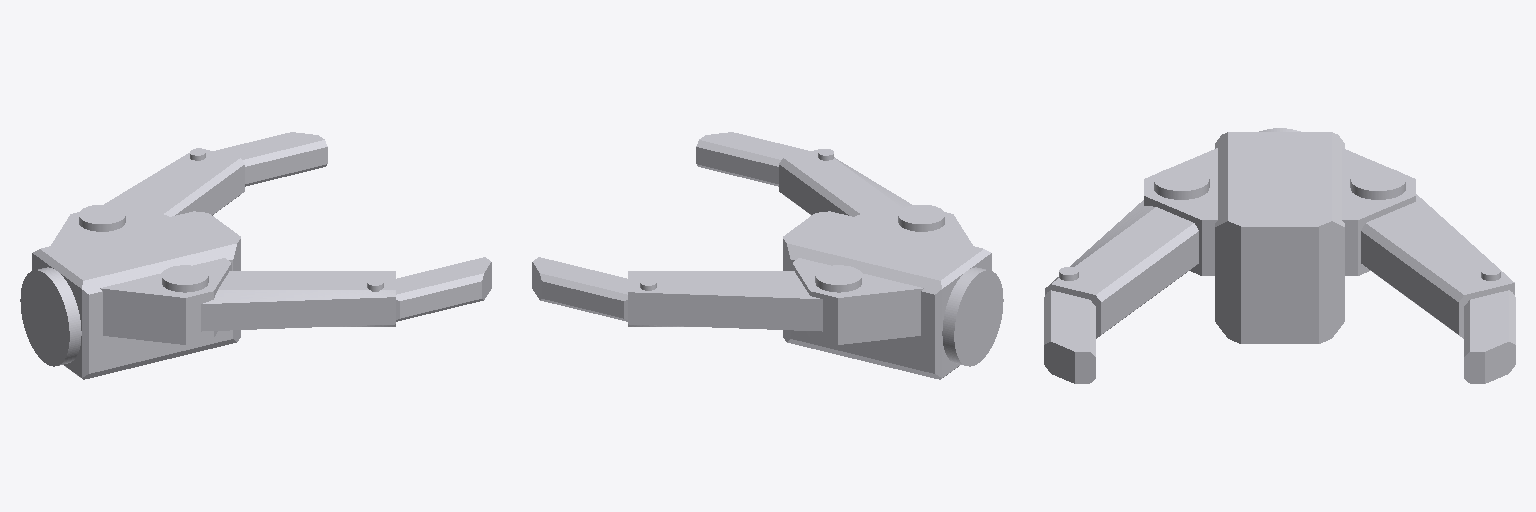
The robot description file, URDF, robot "QARM":
<?xml version="1.0" encoding="utf-8"?>
<!--
    ###################################################################################################################
    Note that all mass/inertial values are examples values only. They are not representative of the actual components.
    ###################################################################################################################
-->

<robot name="QARM">
  <link name="world"/>
	<joint name="world_base_joint" type="fixed">
        <origin rpy="0 0 0" xyz="0 0 0"/>
        <parent link="world"/>
        <child link="base_link"/>
    </joint>
  <link name="base_link">
    <inertial>
      <origin
        xyz="0.000529200576288575 -2.23307396420992E-06 0.0267852902177001"
        rpy="0 0 0" />
      <mass
        value="3.89847036294307" />
      <inertia
        ixx="0.0259717926187233"
        ixy="7.41706820354147E-07"
        ixz="-9.20327430275286E-08"
        iyy="0.0237418182185852"
        iyz="6.90408382921997E-11"
        izz="0.048730018421969" />
    </inertial>
    <visual>
      <origin
        xyz="0 0 0"
        rpy="0 0 0" />
      <geometry>
        <mesh
          filename="package://QARM/meshes/base_link.STL"/>
      </geometry>
      <material
        name="">
        <color
          rgba="0.752941176470588 0.752941176470588 0.752941176470588 1"/>
      </material>
    </visual>
    <collision>
      <origin
        xyz="0 0 0"
        rpy="0 0 0" />
      <geometry>
        <mesh
          filename="package://QARM/meshes/base_link.STL"/>
      </geometry>
    </collision>
  </link>
  <link
    name="YAW">
    <inertial>
      <origin
        xyz="9.37418676855843E-09 -3.48810780368004E-09 0.115813977186301"
        rpy="0 0 0" />
      <mass
        value="0.701518504018672" />
      <inertia
        ixx="0.000478980181395404"
        ixy="3.49149750193703E-12"
        ixz="5.35348095946474E-11"
        iyy="0.000450830880977554"
        iyz="9.21997569253762E-11"
        izz="0.000625067532631923" />
    </inertial>
    <visual>
      <origin
        xyz="0 0 0"
        rpy="0 0 0" />
      <geometry>
        <mesh
          filename="package://QARM/meshes/YAW.STL" />
      </geometry>
      <material
        name="">
        <color
          rgba="0.752941176470588 0.752941176470588 0.752941176470588 1" />
      </material>
    </visual>
    <collision>
      <origin
        xyz="0 0 0"
        rpy="0 0 0" />
      <geometry>
        <mesh
          filename="package://QARM/meshes/YAW.STL" />
      </geometry>
    </collision>
  </link>
  <joint
    name="YAW"
    type="revolute">
    <origin
      xyz="0 0 0"
      rpy="0 0 0" />
    <parent
      link="base_link" />
    <child
      link="YAW" />
    <axis
      xyz="0 0 1" />
    <limit
      lower="-2.967"
      upper="2.967"
      effort="0"
      velocity="0" />
  </joint>
  <link
    name="BICEP">
    <inertial>
      <origin
        xyz="0.0136584263393359 -0.234778864037209 -7.06001931450219E-05"
        rpy="0 0 0" />
      <mass
        value="0.706073338310231" />
      <inertia
        ixx="0.00242444522090698"
        ixy="2.42682372909241E-06"
        ixz="-6.26703067273348E-07"
        iyy="0.000274342515078279"
        iyz="1.69726051287685E-06"
        izz="0.00246773570290634" />
    </inertial>
    <visual>
      <origin
        xyz="0 0 0"
        rpy="0 0 0" />
      <geometry>
        <mesh
          filename="package://QARM/meshes/BICEP.STL" />
      </geometry>
      <material
        name="">
        <color
          rgba="0.752941176470588 0.752941176470588 0.752941176470588 1" />
      </material>
    </visual>
    <collision>
      <origin
        xyz="0 0 0"
        rpy="0 0 0" />
      <geometry>
        <mesh
          filename="package://QARM/meshes/BICEP.STL" />
      </geometry>
    </collision>
  </link>
  <joint
    name="SHOULDER"
    type="revolute">
    <origin
      xyz="0 0 0.1397714"
      rpy="-1.5707963267949 0 0" />
    <parent
      link="YAW" />
    <child
      link="BICEP" />
    <axis
      xyz="0 0 1" />
    <limit
      lower="-1.483"
      upper="1.483"
      effort="0"
      velocity="0" />
  </joint>
  <link
    name="FOREARM">
    <inertial>
      <origin
        xyz="0.0372712542033594 0.155357218514742 0.000271723941997439"
        rpy="0 0 0" />
      <mass
        value="0.4296669212638" />
      <inertia
        ixx="0.000344487673462402"
        ixy="-2.89506781372207E-05"
        ixz="4.98141800994188E-07"
        iyy="0.000149695456153606"
        iyz="2.97325983931059E-06"
        izz="0.000297718151262944" />
    </inertial>
    <visual>
      <origin
        xyz="0 0 0"
        rpy="0 0 0" />
      <geometry>
        <mesh
          filename="package://QARM/meshes/FOREARM.STL" />
      </geometry>
      <material
        name="">
        <color
          rgba="0.752941176470588 0.752941176470588 0.752941176470588 1" />
      </material>
    </visual>
    <collision>
      <origin
        xyz="0 0 0"
        rpy="0 0 0" />
      <geometry>
        <mesh
          filename="package://QARM/meshes/FOREARM.STL" />
      </geometry>
    </collision>
  </link>
  <joint
    name="ELBOW"
    type="revolute">
    <origin
      xyz="0.0500000000000004 -0.350000000000015 0"
      rpy="0 0 -1.42889927219074" />
    <parent
      link="BICEP" />
    <child
      link="FOREARM" />
    <axis
      xyz="0 0 1" />
    <limit
      lower="-1.658"
      upper="1.309"
      effort="0"
      velocity="0" />
  </joint>
  <link
    name="END-EFFECTOR">
    <inertial>
      <origin
        xyz="-7.14013714436801E-05 -4.06287319420589E-05 0.0057237846257307"
        rpy="0 0 0" />
      <mass
        value="0.025331269641348" />
      <inertia
        ixx="2.26806595610621E-06"
        ixy="7.98741449900658E-09"
        ixz="1.08626792635935E-08"
        iyy="2.22929725748166E-06"
        iyz="-5.49899749477752E-09"
        izz="4.00602755679902E-06" />
    </inertial>
    <visual>
      <origin
        xyz="0 0 0"
        rpy="0 0 0" />
      <geometry>
        <mesh
          filename="package://QARM/meshes/END-EFFECTOR.STL" />
      </geometry>
      <material
        name="">
        <color
          rgba="0.752941176470588 0.752941176470588 0.752941176470588 1" />
      </material>
    </visual>
    <collision>
      <origin
        xyz="0 0 0"
        rpy="0 0 0" />
      <geometry>
        <mesh
          filename="package://QARM/meshes/END-EFFECTOR.STL" />
      </geometry>
    </collision>
    <visual>
      <origin
        xyz="0 0 0"
        rpy="0 0 0" />
      <geometry>
        <mesh
          filename="package://QARM/meshes/Gripper.stl" />
      </geometry>
      <material
        name="">
        <color
          rgba="0.85 0.85 0.88 1" />
      </material>
    </visual>
    <collision>
      <origin
        xyz="0 0 0"
        rpy="0 0 0" />
      <geometry>
        <mesh
          filename="package://QARM/meshes/Gripper.stl" />
      </geometry>
    </collision>
  </link>
  <joint
    name="WRIST"
    type="revolute">
    <origin
      xyz="0.0336611536380097 0.235607569369425 0"
      rpy="-1.5707963267949 0 -0.141897054604159" />
    <parent
      link="FOREARM" />
    <child
      link="END-EFFECTOR" />
    <axis
      xyz="0 0 1" />
    <limit
      lower="-3.010"
      upper="3.010"
      effort="0"
      velocity="0" />
  </joint>
</robot>

--- Facts derived from the render (not from the file) ---
The picture shows the robot from 3 angles, left to right: view 1: azimuth 30°, elevation 25°; view 2: azimuth 150°, elevation 25°; view 3: azimuth 270°, elevation 25°; orthographic projection.
Model QARM with 6 links and 5 joints (4 revolute, 1 fixed), rooted at world, posed all joints at 0.
Visible links, largest first — view 1: END-EFFECTOR; view 2: END-EFFECTOR; view 3: END-EFFECTOR.
Link boxes in pixels (box(x1,y1,x2,y2)): END-EFFECTOR: box(20, 132, 491, 379); END-EFFECTOR: box(532, 132, 1003, 379); END-EFFECTOR: box(1044, 128, 1515, 383).
Size in the robot's own frame: 0.152 by 0.145 by 0.04 metres.
Meshes: 6 distinct files referenced, 1 mesh visuals loaded (1 binary STL); not drawn: 5 (reference not matched to a file when rendering).